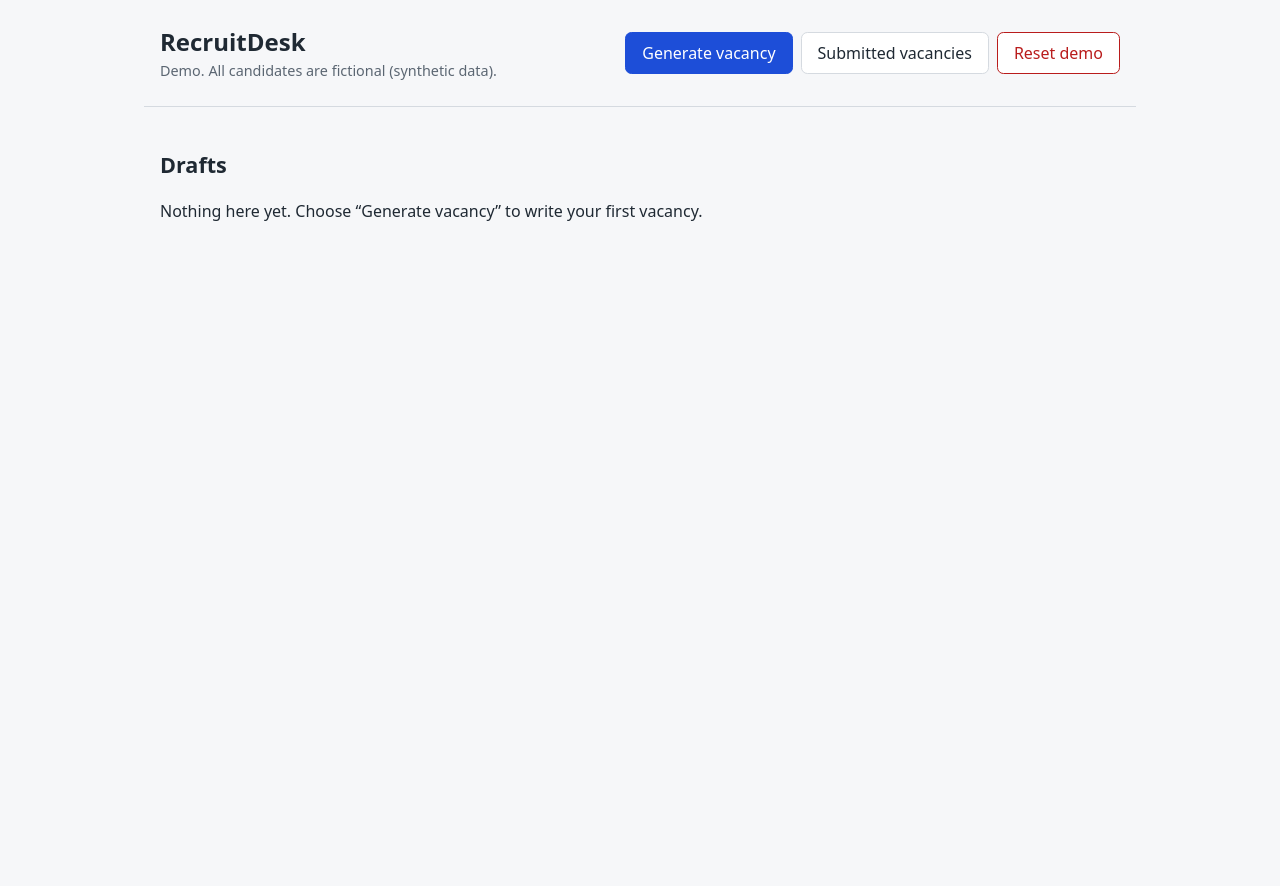
Test: each entry shows name, phone, email and the paragraph explaining why
Click the button "Submitted vacancies" at (895,53), box [801,32,989,74]
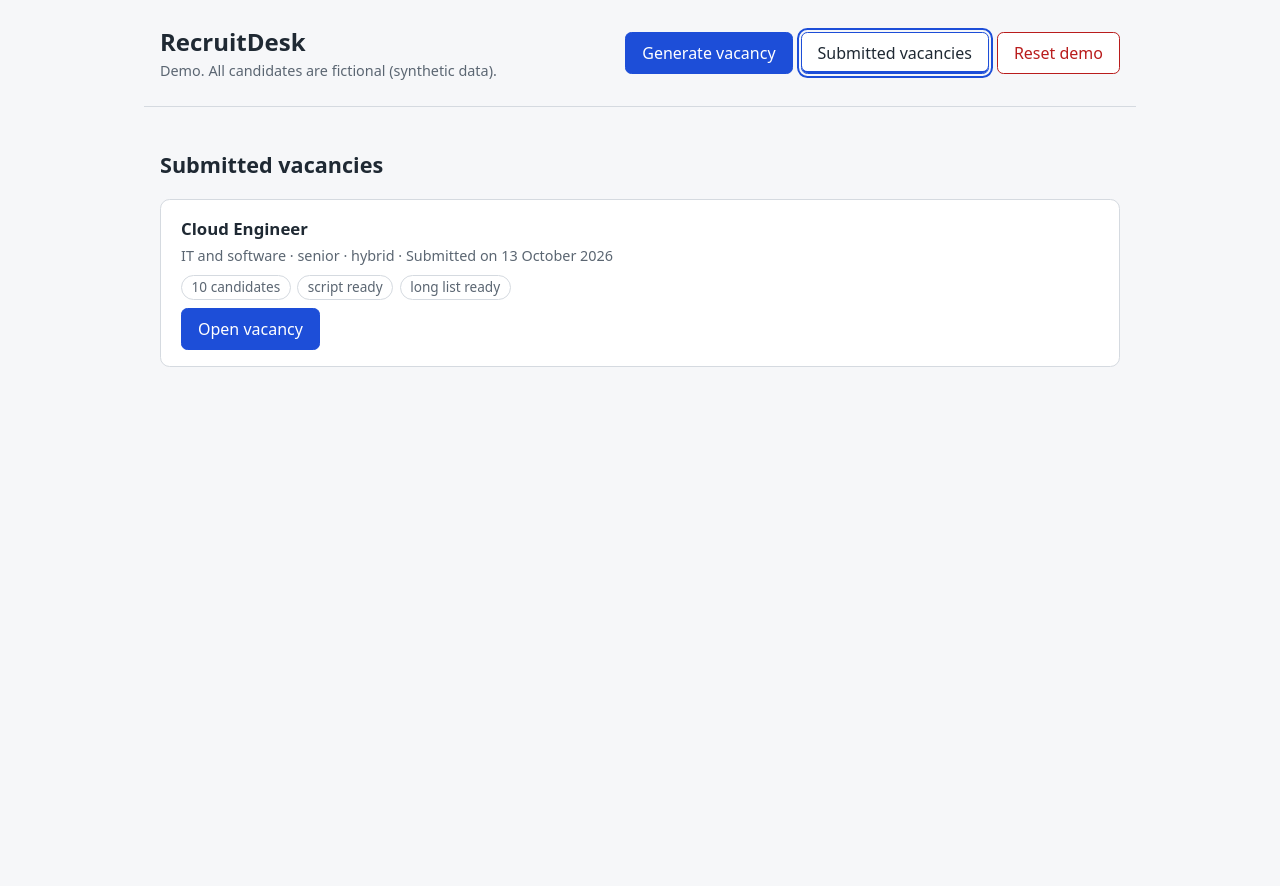
Click the button "Open vacancy" at (250,329), box [181,308,320,350]
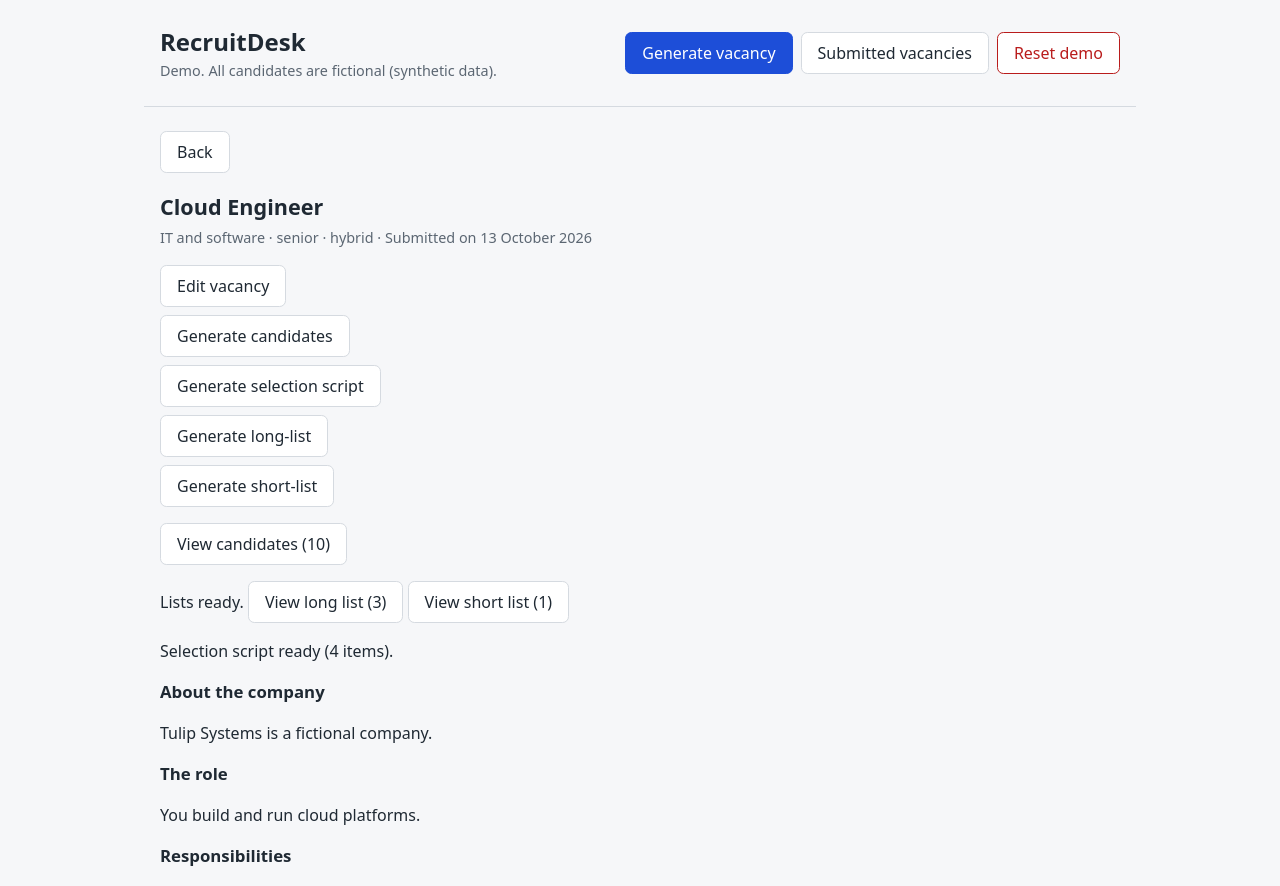
Expected: the list named "Actions" is shown, [160,264,381,506]
Click the button "View long list (3)" at (326,602), box [248,580,403,622]
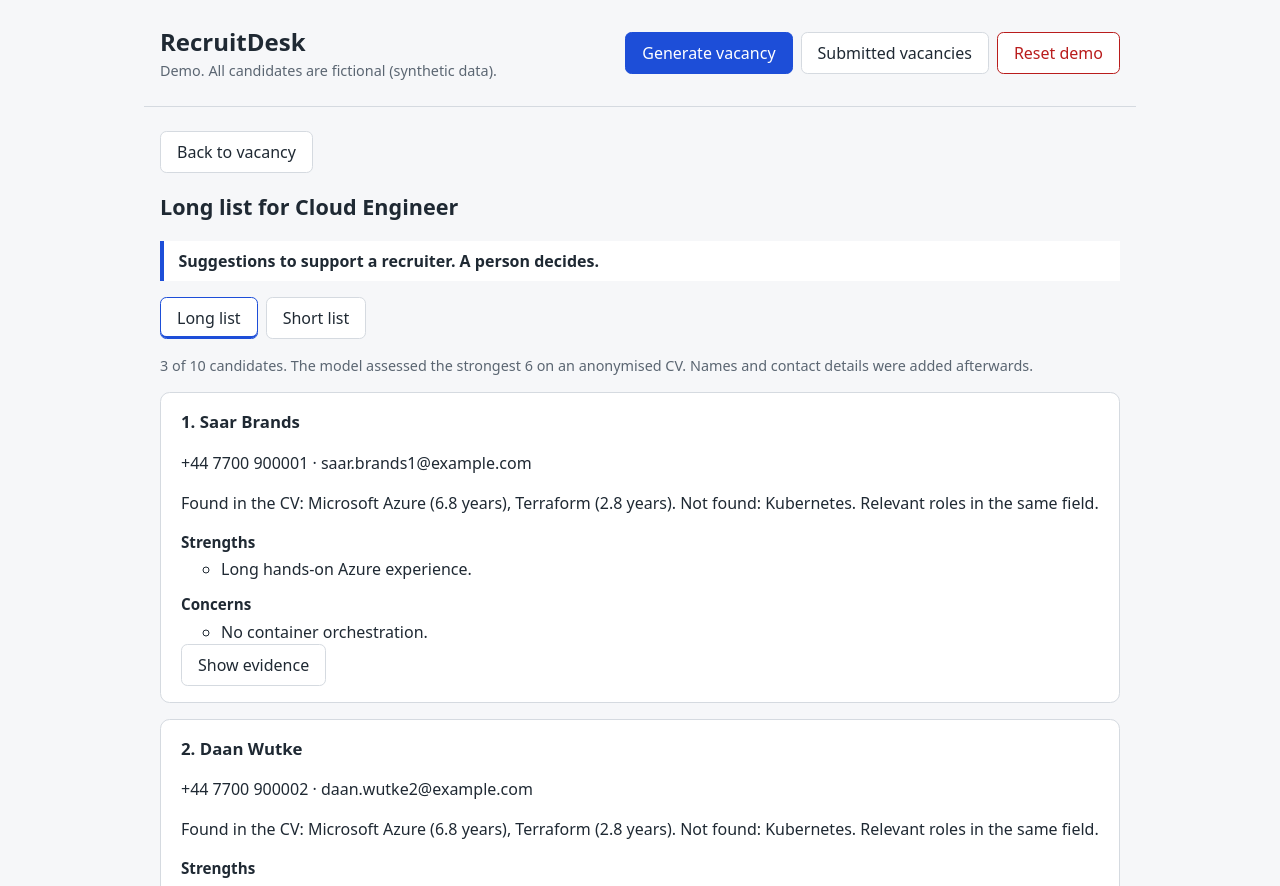
Expected: the list item "1. Saar Brands" shows "+44 7700 900001 · saar.brands1@example.com", [160,392,1120,703]
Expected: the list item "1. Saar Brands" shows "Found in the CV: Microsoft Azure (6.8 years), Terraform (2.8 years). Not found: Kubernetes. Relevant roles in the same field.", [181,492,1099,514]
Expected: the list item "Long hands-on Azure experience." below "Saar Brands" is shown, [221,558,472,580]
